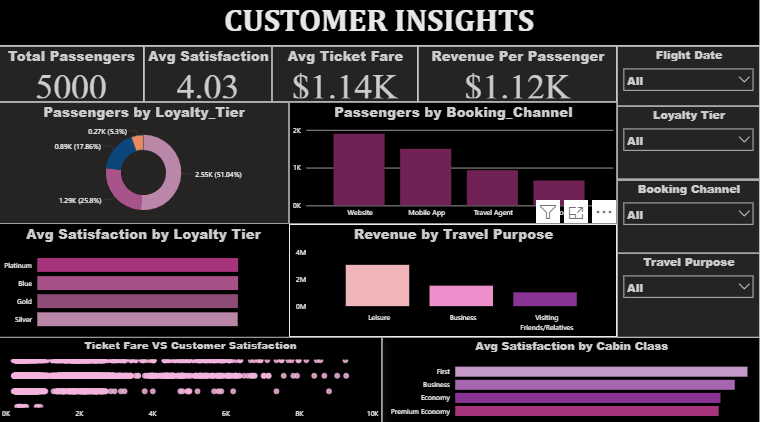

This screenshot's page, from the dashboard's own definition file:
{"tool":"powerbi","page":{"name":"Customer Insights","canvas":[1280,720],"ordinal":1},"visuals":[{"type":"textbox","box":[0,0,1280,82.3],"z":0},{"type":"card","title":"Total Passengers","fields":{"Values":["AirlineData.Total Passengers"]},"box":[0,82.3,245.2,94.1],"z":1000},{"type":"card","title":"Avg Satisfaction","fields":{"Values":["AirlineData.Average Satisfaction"]},"box":[245.2,82.3,215,94.1],"z":2000},{"type":"card","title":"Avg Ticket Fare","fields":{"Values":["AirlineData.Average Ticket Fare"]},"box":[460.3,82.3,245.2,94.1],"z":3000},{"type":"card","title":"Revenue Per Passenger","fields":{"Values":["AirlineData.Revenue per Passenger"]},"box":[705.5,82.3,334.3,94.1],"z":4000},{"type":"donutChart","title":"Passengers by Loyalty_Tier","fields":{"Category":["AirlineData.Loyalty_Tier"],"Y":["Count(AirlineData.Passenger_ID)"]},"box":[0,176.4,488.8,204.9],"z":5000},{"type":"clusteredColumnChart","title":"Passengers by Booking_Channel","fields":{"Category":["AirlineData.Booking_Channel"],"Y":["Count(AirlineData.Passenger_ID)"]},"box":[488.8,176.4,551,204.9],"z":6000},{"type":"clusteredBarChart","title":"Avg Satisfaction by Loyalty Tier","fields":{"Category":["AirlineData.Loyalty_Tier"],"Y":["Avg(AirlineData.Customer_Satisfaction)"]},"box":[0,381.3,488.8,189.8],"z":7000},{"type":"clusteredColumnChart","title":"Revenue by Travel Purpose","fields":{"Category":["AirlineData.Travel_Purpose"],"Y":["Sum(AirlineData.Revenue_USD)"]},"box":[488.3,381.7,551.7,190],"z":8000},{"type":"clusteredBarChart","title":"Avg Satisfaction by Cabin Class","fields":{"Category":["AirlineData.Cabin_Class"],"Y":["Avg(AirlineData.Customer_Satisfaction)"]},"box":[645,571.7,635,148.3],"z":9000},{"type":"scatterChart","title":"Ticket Fare VS Customer Satisfaction","fields":{"Y":["Avg(AirlineData.Customer_Satisfaction)"],"X":["AirlineData.Ticket_Fare_USD"],"Category":["AirlineData.Passenger_ID"]},"box":[0,571.7,645,148.3],"z":10000},{"type":"slicer","title":"Flight Date","fields":{"Values":["AirlineData.Flight_Date"]},"box":[1039.8,82.3,240.2,100.8],"z":11000},{"type":"slicer","title":"Loyalty Tier","fields":{"Values":["AirlineData.Loyalty_Tier"]},"box":[1040,183.3,240,123.3],"z":12000},{"type":"slicer","title":"Booking Channel","fields":{"Values":["AirlineData.Booking_Channel"]},"box":[1040,306.7,240,123.3],"z":13000},{"type":"slicer","title":"Travel Purpose","fields":{"Values":["AirlineData.Travel_Purpose"]},"box":[1040,430,240,141.7],"z":14000}]}

Visuals, with their boxes in screenshot pixels (x1, y1, x2, y2), scaled from the page's 1280x720 canvas onto the 760x422 screenshot:
textbox: x1=0, y1=0, x2=759, y2=48
"Total Passengers" card: x1=0, y1=48, x2=146, y2=103
"Avg Satisfaction" card: x1=146, y1=48, x2=273, y2=103
"Avg Ticket Fare" card: x1=273, y1=48, x2=419, y2=103
"Revenue Per Passenger" card: x1=419, y1=48, x2=617, y2=103
"Passengers by Loyalty_Tier" donutChart: x1=0, y1=103, x2=290, y2=223
"Passengers by Booking_Channel" clusteredColumnChart: x1=290, y1=103, x2=617, y2=223
"Avg Satisfaction by Loyalty Tier" clusteredBarChart: x1=0, y1=223, x2=290, y2=335
"Revenue by Travel Purpose" clusteredColumnChart: x1=290, y1=224, x2=618, y2=335
"Avg Satisfaction by Cabin Class" clusteredBarChart: x1=383, y1=335, x2=759, y2=421
"Ticket Fare VS Customer Satisfaction" scatterChart: x1=0, y1=335, x2=383, y2=421
"Flight Date" slicer: x1=617, y1=48, x2=759, y2=107
"Loyalty Tier" slicer: x1=618, y1=107, x2=759, y2=180
"Booking Channel" slicer: x1=618, y1=180, x2=759, y2=252
"Travel Purpose" slicer: x1=618, y1=252, x2=759, y2=335
